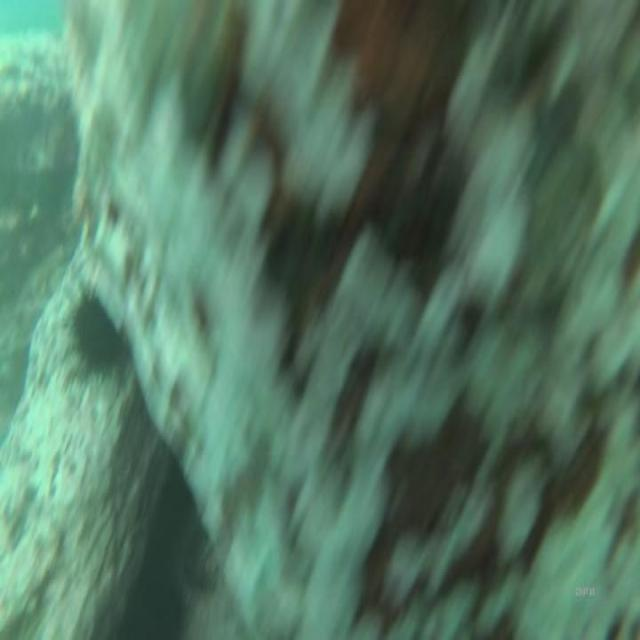echinus: (74, 294, 124, 381)
